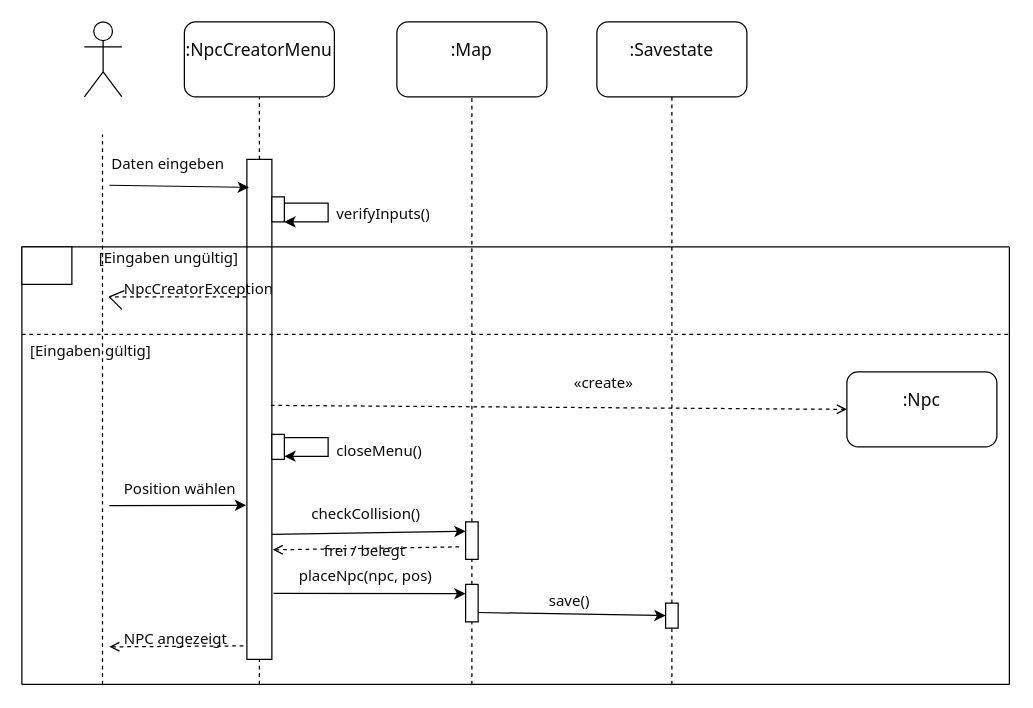
Some shapes in this 1033 by 708 pixel diagram are drawn without their labels. The box of each missing label's shape, as (x1, y1, x2, y2) in pixels:
Actor: (83, 21, 122, 97)
alt: (21, 246, 72, 284)
